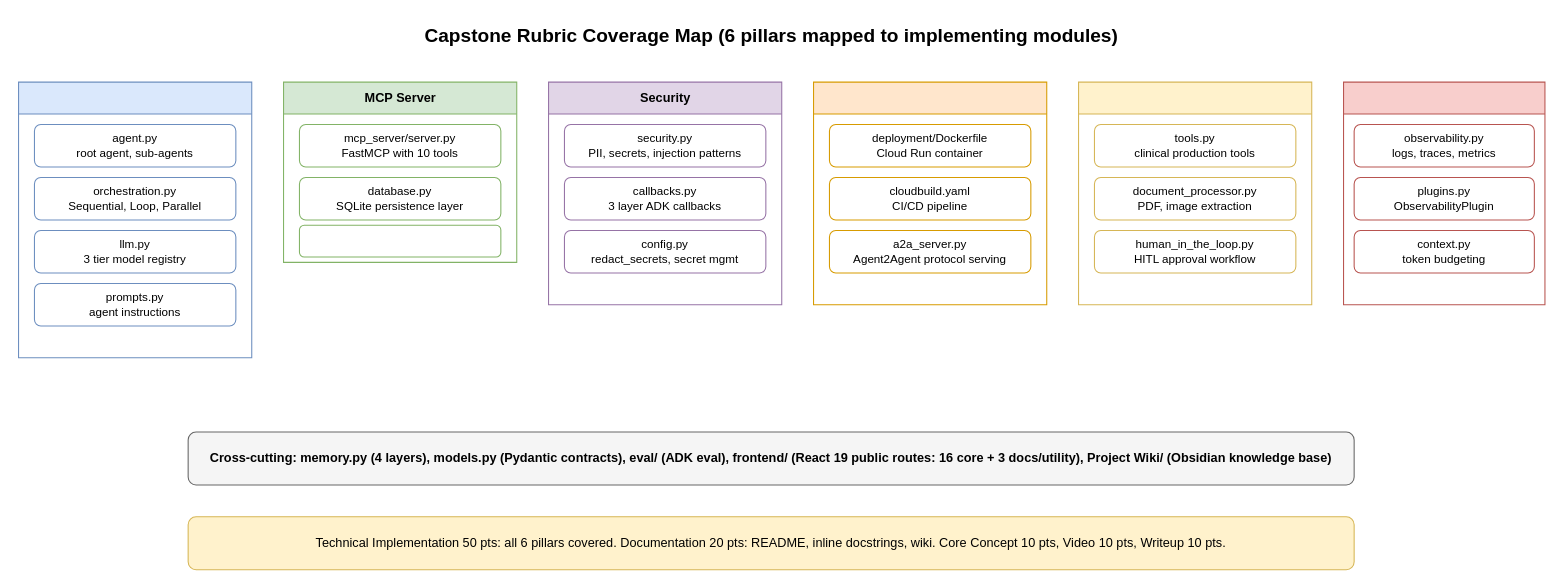
Some shapes in this 1563 by 588 pixel diagram are drawn without their labels. Each missing label, with the box of its shape:
Agent / Multi-agent (ADK): (17, 81, 252, 358)
Agent Skills: (1077, 81, 1312, 305)
Antigravity (Observability): (1342, 81, 1545, 305)
clinical_schemas.py schema DDL and query engine: (298, 224, 501, 257)
Deployability: (812, 81, 1047, 305)
